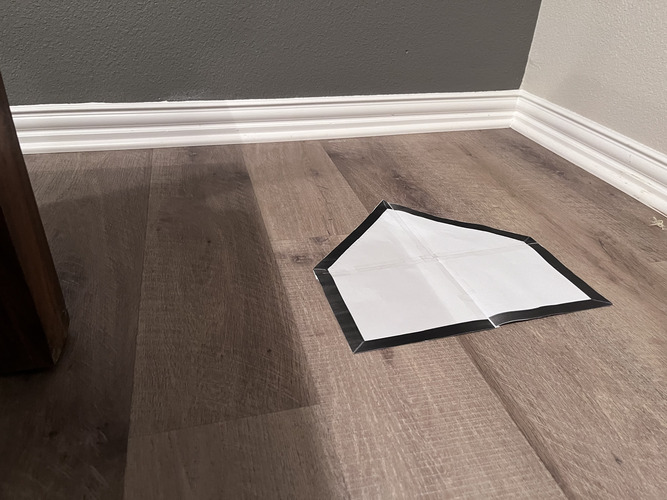homeplate: (311, 201, 612, 352)
